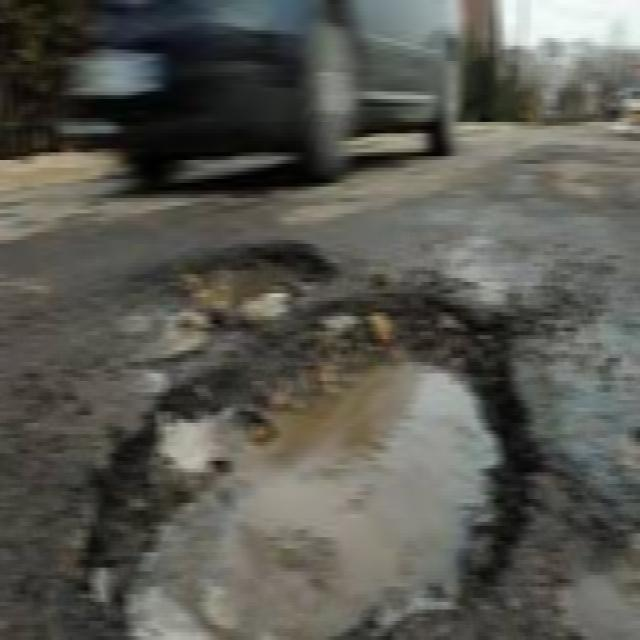Pothole: (66, 286, 529, 638), (151, 232, 341, 321), (546, 526, 640, 640)
